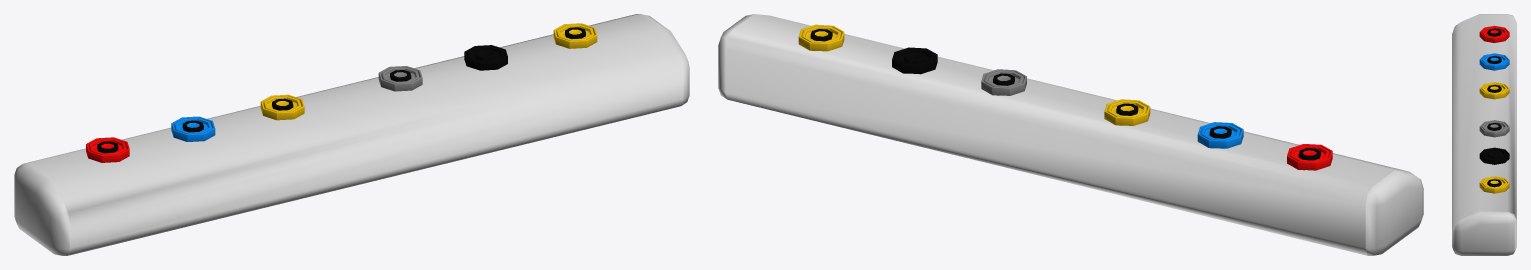
3 renders of one model, left to right at view 1: azimuth 30°, elevation 25°; view 2: azimuth 150°, elevation 25°; view 3: azimuth 270°, elevation 25°, orthographic. The views are drawn at different scales.
Parts seen in each view (by area): view 1: Circle; view 2: Circle; view 3: Circle.
Boxes of the visible parts, left/top/right/bottom form: Circle: left=14, top=14, right=689, bottom=255; Circle: left=718, top=14, right=1423, bottom=255; Circle: left=1452, top=14, right=1516, bottom=255.
Size of the model in its own units: 150 by 16.8 by 20.
